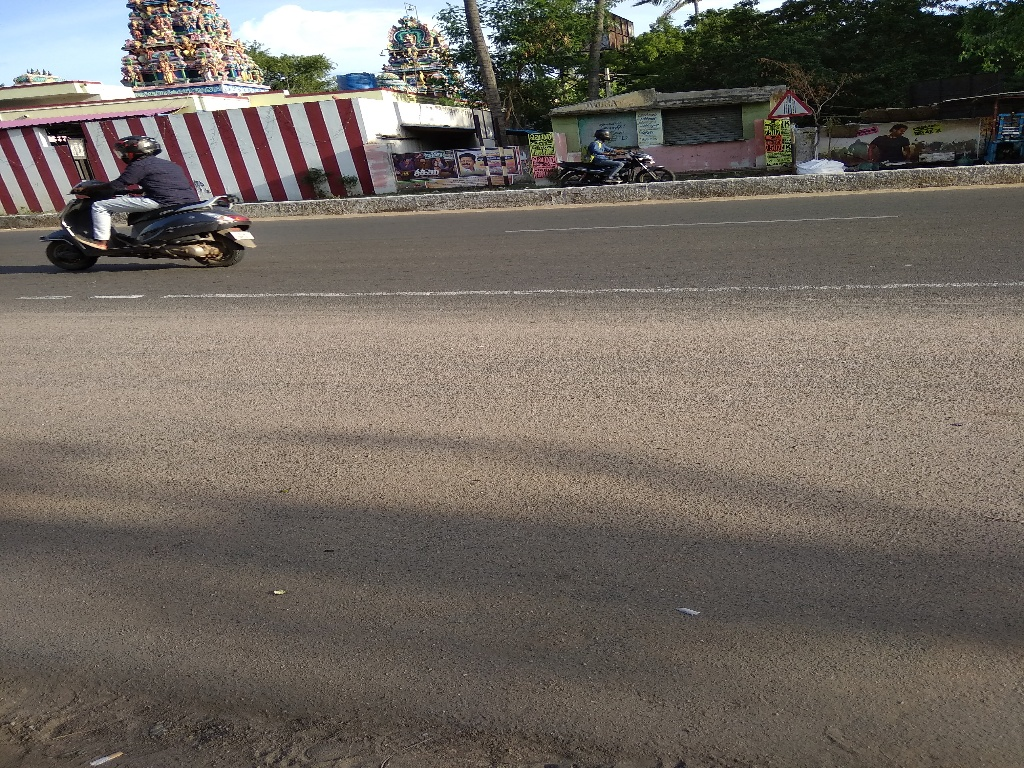biker: (36, 80, 268, 281), (544, 108, 684, 188)
helmet: (101, 127, 172, 173), (588, 123, 616, 143)
